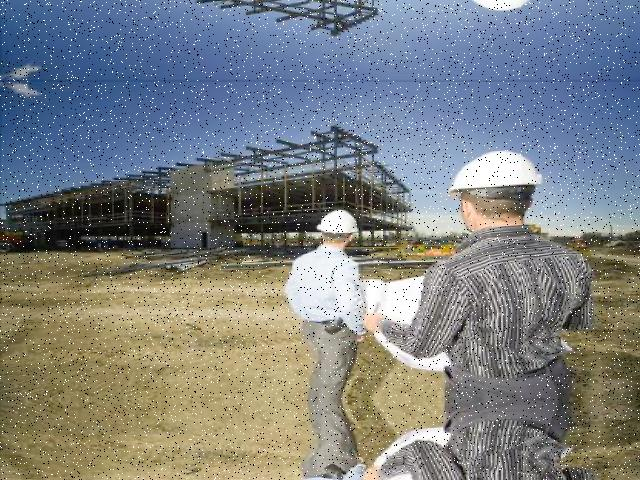Helmet: (438, 144, 545, 208), (311, 204, 360, 248)
